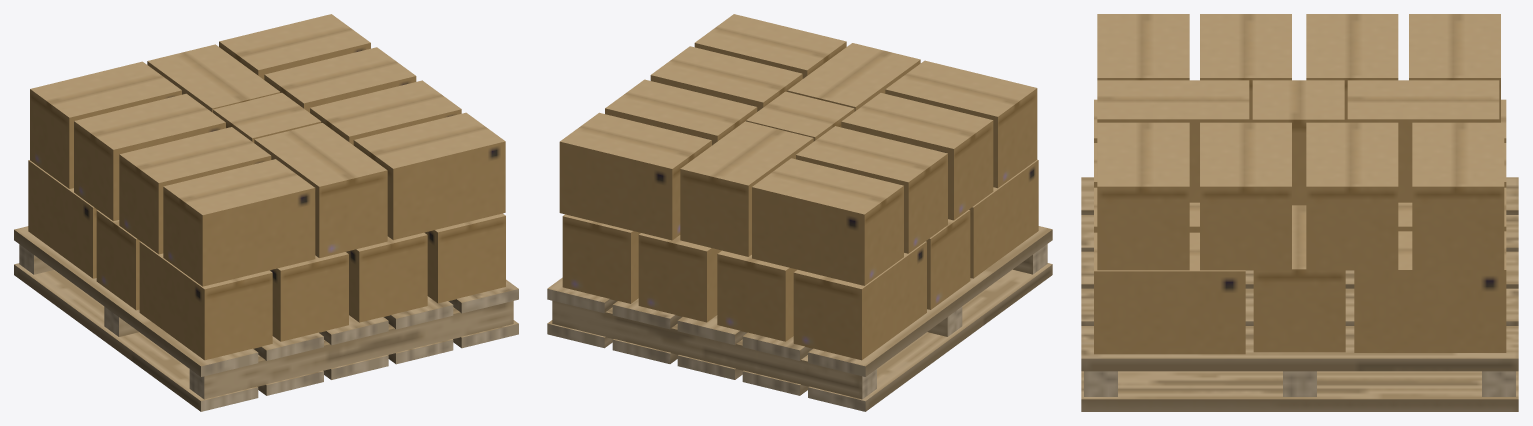
The model's file is Box_Set_001_B.FBX.
The picture shows the model from 3 angles, left to right: view 1: azimuth 30°, elevation 25°; view 2: azimuth 150°, elevation 25°; view 3: azimuth 270°, elevation 25°; orthographic projection. The views are drawn at different scales.
Visible parts, largest first — view 1: Box_Set_001_B; view 2: Box_Set_001_B; view 3: Box_Set_001_B.
Boxes of the visible parts, x1=… form: Box_Set_001_B: x1=14, y1=14, x2=518, y2=411; Box_Set_001_B: x1=547, y1=14, x2=1052, y2=411; Box_Set_001_B: x1=1081, y1=14, x2=1518, y2=411.
Size of the model in its own units: 93.25 by 95 by 53.13.
